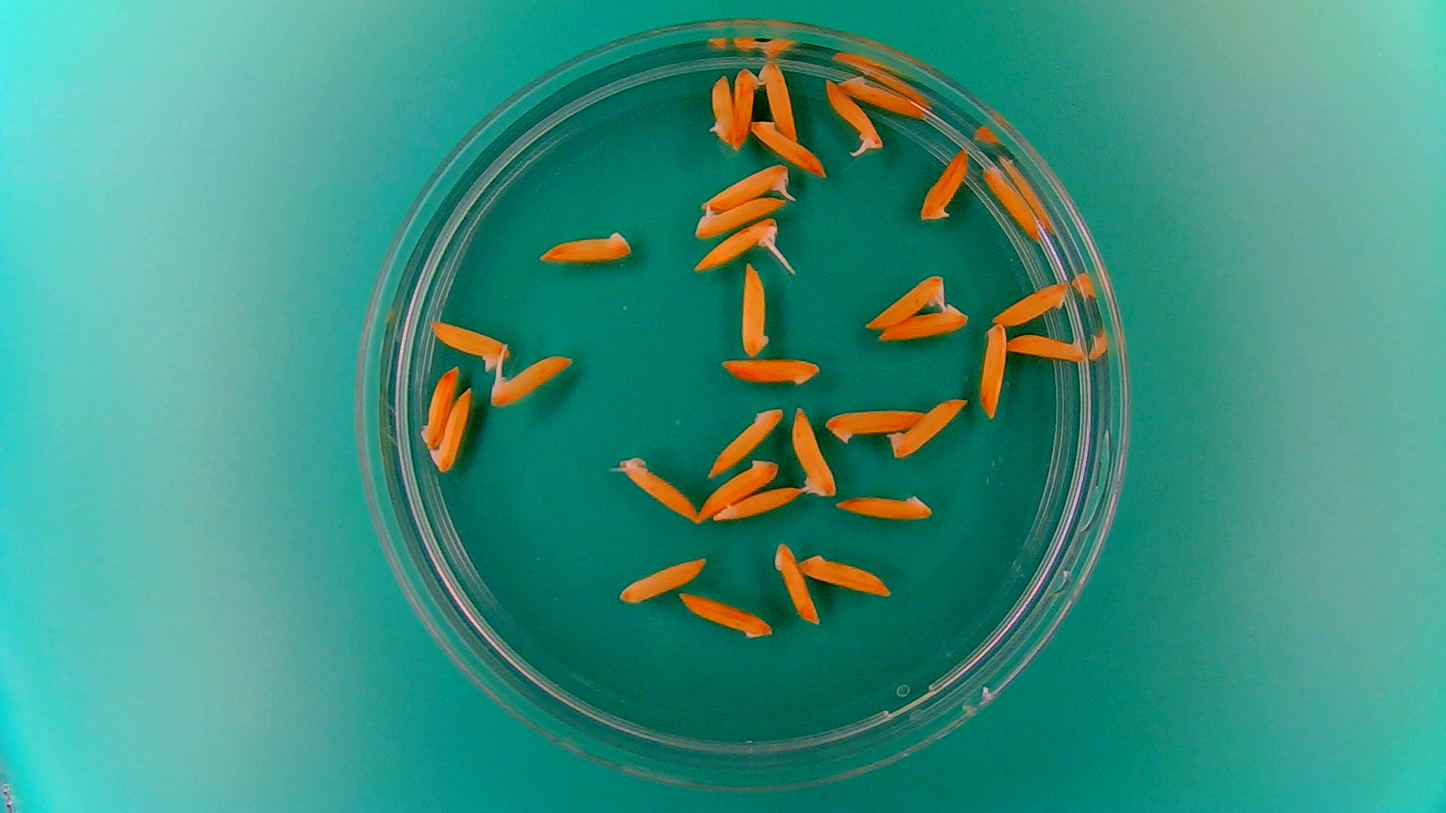no: (706, 407, 786, 478), (978, 161, 1045, 242), (620, 461, 702, 525), (746, 115, 829, 178), (887, 397, 968, 461), (426, 317, 511, 377), (615, 553, 707, 606), (770, 537, 822, 629), (796, 550, 893, 598), (697, 464, 773, 525), (821, 401, 926, 445), (917, 145, 972, 225), (677, 595, 772, 641), (990, 278, 1075, 327), (838, 74, 927, 118), (877, 302, 969, 344), (430, 385, 473, 473), (713, 482, 802, 524), (419, 362, 461, 448), (719, 353, 822, 388), (975, 318, 1009, 422), (758, 56, 800, 139), (538, 230, 631, 267), (834, 491, 936, 522), (1006, 328, 1088, 365), (741, 259, 770, 357), (706, 69, 741, 149), (730, 63, 762, 145)
yes: (694, 215, 781, 271), (863, 275, 948, 332), (697, 161, 792, 212), (825, 78, 886, 156), (489, 352, 575, 406), (789, 410, 834, 500), (693, 195, 789, 236)
